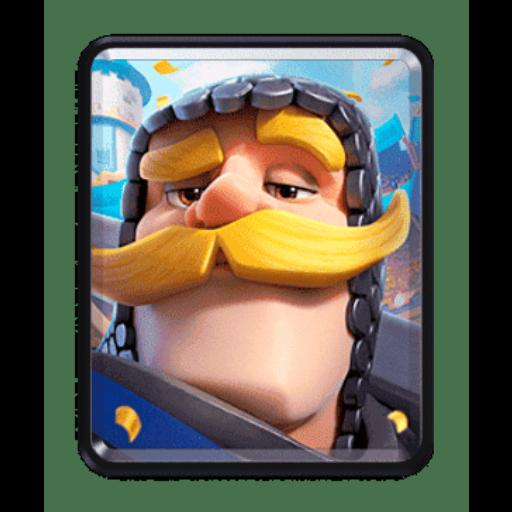knight: (88, 61, 422, 463)
